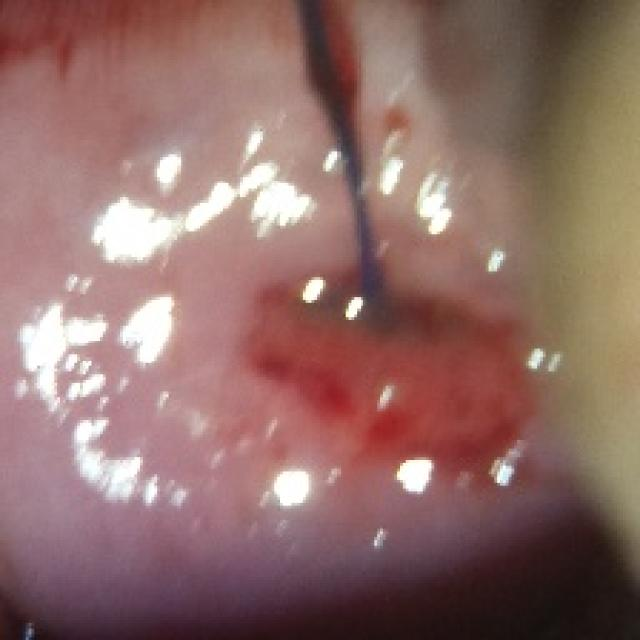type-2: (3, 89, 590, 605)
